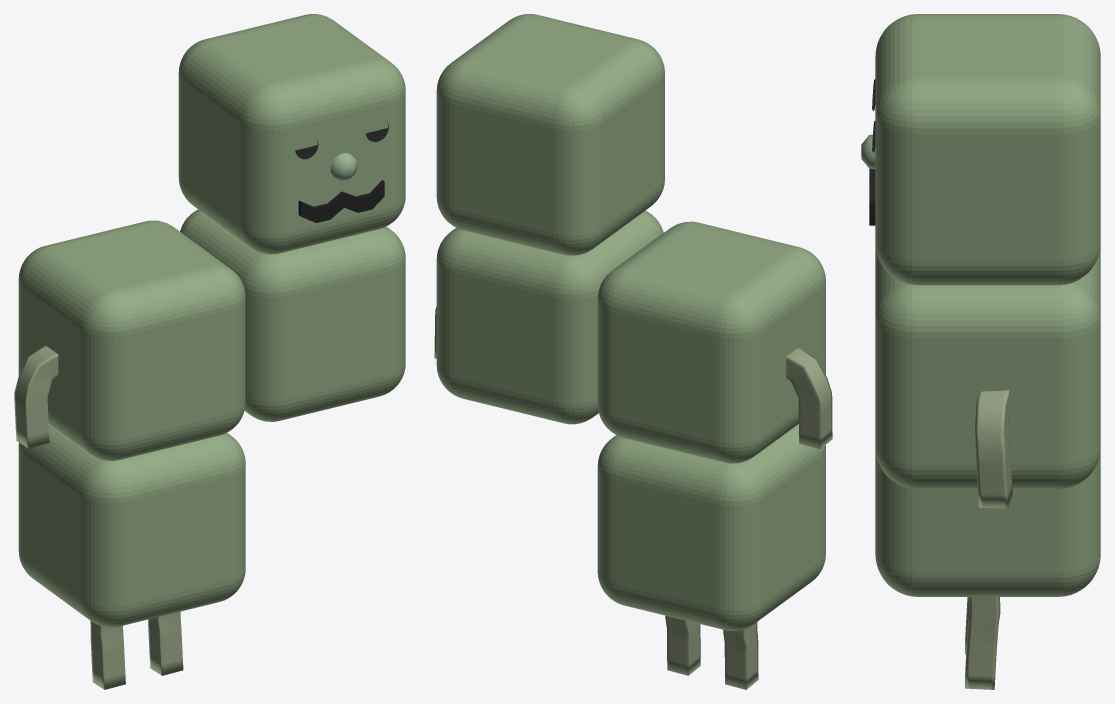
Rendered from person_tetris_5_alive.fbx.
3 views of the same model, side by side, from view 1: azimuth 30°, elevation 25°; view 2: azimuth 150°, elevation 25°; view 3: azimuth 270°, elevation 25° (orthographic). The views are drawn at different scales.
Visible parts, largest first — view 1: Cube.003, Cube.001, Cube, Cube.002, Cylinder; view 2: Cube.003, Cube.001, Cube; view 3: Cube.003, Cube, Cube.001, Cube.002, Cylinder.
Boxes of the visible parts, left/top/right/bottom form: Cube.003: left=18, top=14, right=405, bottom=627; Cube.001: left=90, top=611, right=183, bottom=689; Cube: left=14, top=345, right=58, bottom=448; Cube.002: left=298, top=180, right=384, bottom=222; Cylinder: left=330, top=153, right=357, bottom=180; Cube.003: left=436, top=14, right=825, bottom=630; Cube.001: left=665, top=615, right=758, bottom=689; Cube: left=434, top=306, right=832, bottom=449; Cube.003: left=875, top=14, right=1100, bottom=596; Cube: left=975, top=390, right=1012, bottom=508; Cube.001: left=965, top=597, right=1000, bottom=689; Cube.002: left=869, top=168, right=875, bottom=225; Cylinder: left=861, top=134, right=875, bottom=169.
Size of the model in its own units: 475 by 698 by 213.
